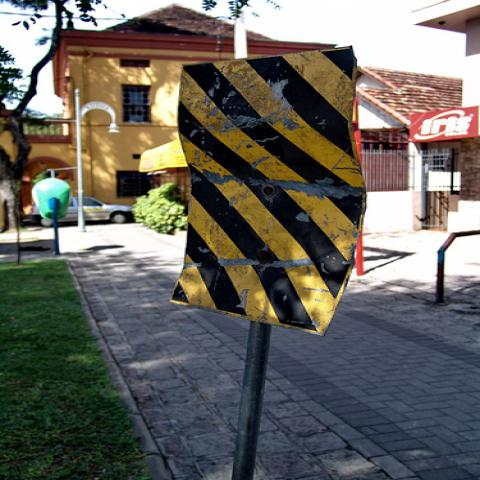car: (30, 196, 134, 228)
